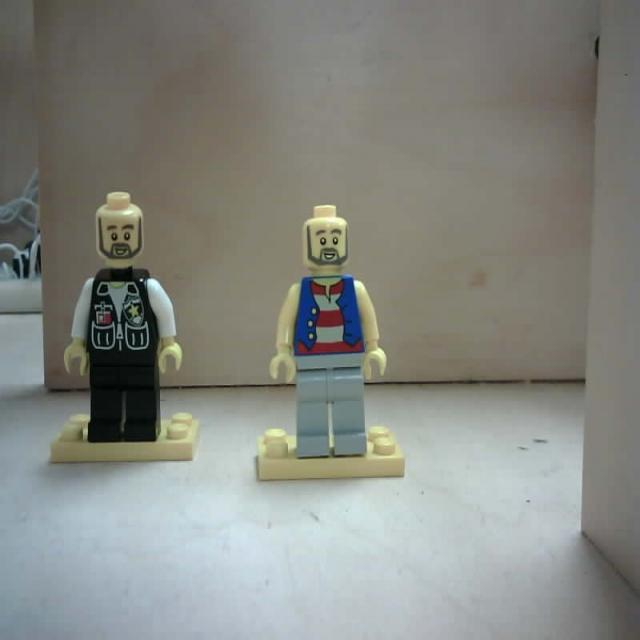Lego-People: (256, 205, 406, 481), (50, 190, 203, 460)
